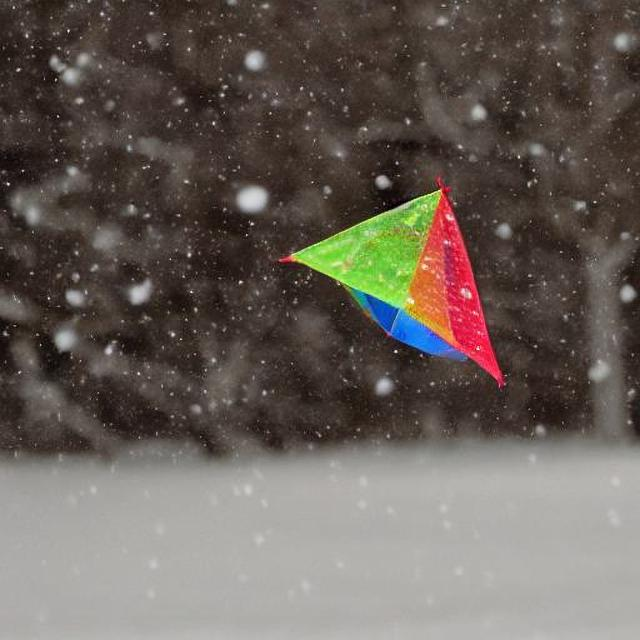floating object: (288, 177, 511, 379)
